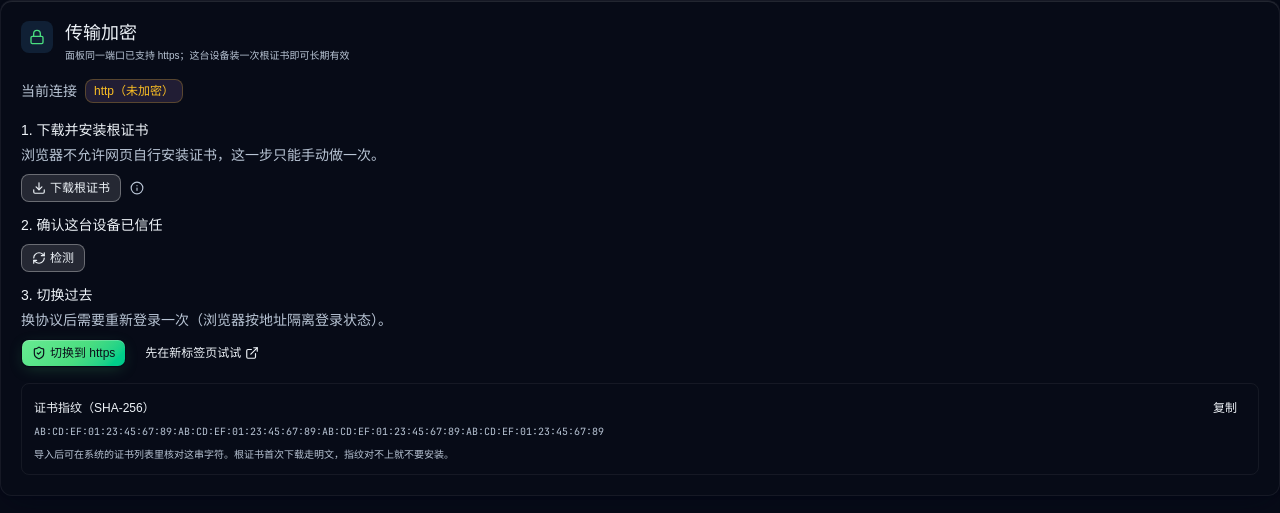
Test: HttpsPanel › 检测到证书未受信时提示「还没生效」，不误报为已信任
Click the button "检测" at (53, 258), box [21,244,85,272]
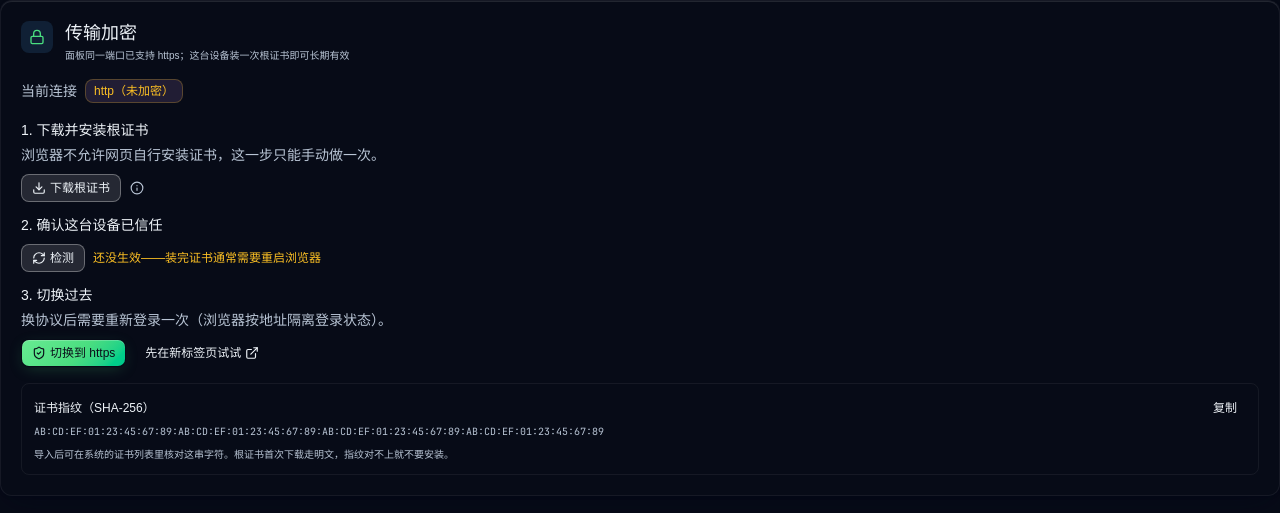
Expected: the text "还没生效——装完证书通常需要重启浏览器" is shown, [93,249,321,267]
